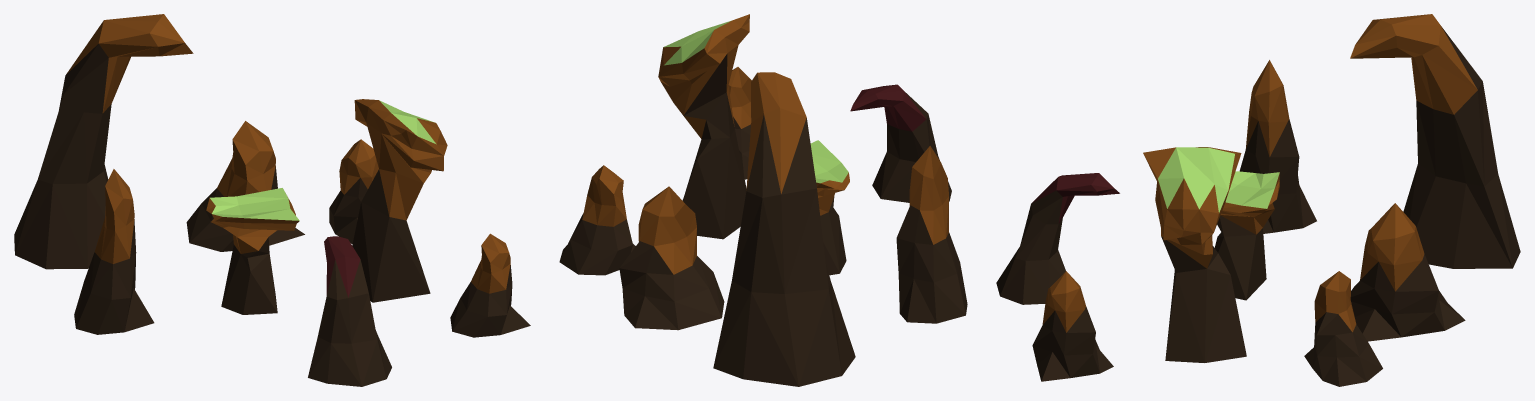
File: Island_B01_Formation02.fbx
3 views of the same model, side by side, from view 1: azimuth 30°, elevation 25°; view 2: azimuth 150°, elevation 25°; view 3: azimuth 270°, elevation 25° (orthographic). The views are drawn at different scales.
Parts seen in each view (by area): view 1: Island_B01_Spike_Formations2_Combi; view 2: Island_B01_Spike_Formations2_Combi; view 3: Island_B01_Spike_Formations2_Combi.
Part boxes in pixels (x1,y1,x2,y2): Island_B01_Spike_Formations2_Combi: [14, 14, 530, 386]; Island_B01_Spike_Formations2_Combi: [559, 14, 967, 386]; Island_B01_Spike_Formations2_Combi: [996, 14, 1520, 386].
Bounding box in the file's own units: 53.55 × 34.6 × 64.71.
